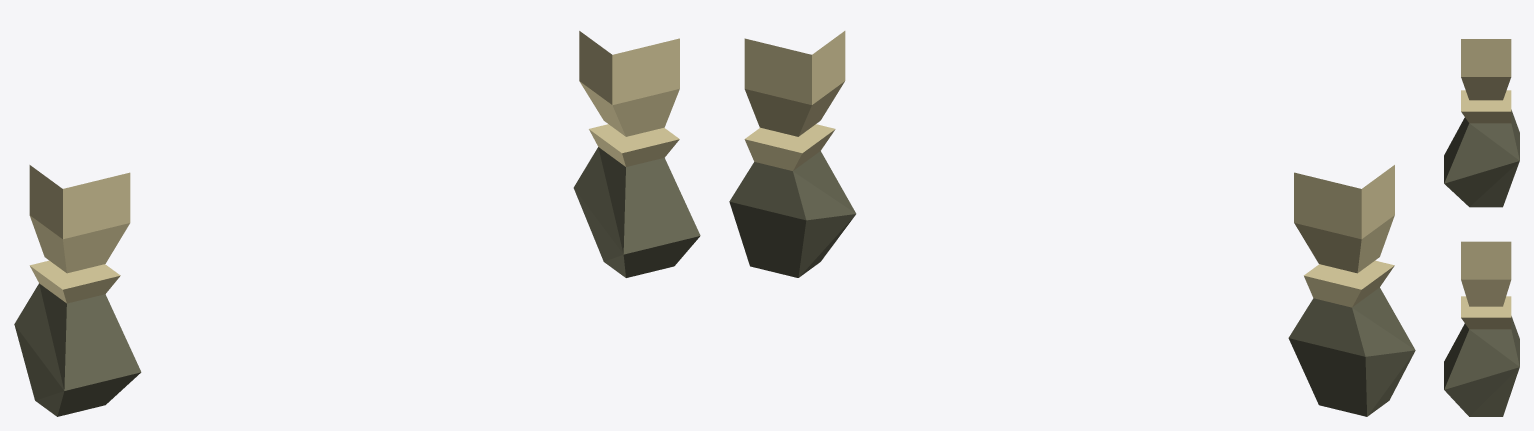
Rendered from player_barrows_gloves.glb.
The picture shows the model from 3 angles, left to right: view 1: azimuth 30°, elevation 25°; view 2: azimuth 150°, elevation 25°; view 3: azimuth 270°, elevation 25°; orthographic projection. The views are drawn at different scales.
Size of the model in its own units: 65.99 by 23 by 9.
Materials: 1 (1 with a texture image).
